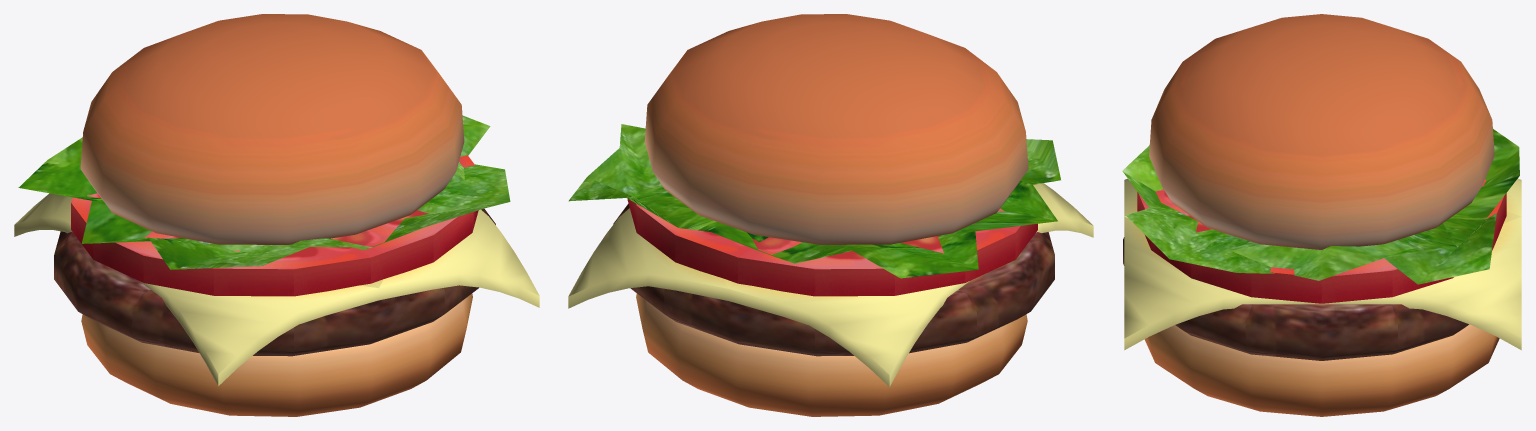
The model's file is hamburger.obj.
3 views of the same model, side by side, from view 1: azimuth 30°, elevation 25°; view 2: azimuth 150°, elevation 25°; view 3: azimuth 270°, elevation 25° (orthographic). The views are drawn at different scales.
Parts seen in each view (by area): view 1: mesh0033, mesh0028, mesh0030, mesh0031, mesh0029, mesh0032; view 2: mesh0033, mesh0028, mesh0030, mesh0032, mesh0029, mesh0031; view 3: mesh0033, mesh0028, mesh0032, mesh0030, mesh0029, mesh0031.
Part boxes in pixels (x1,y1,x2,y2): mesh0033: (80, 14, 464, 244); mesh0028: (81, 293, 472, 416); mesh0030: (14, 193, 539, 385); mesh0031: (71, 155, 478, 296); mesh0029: (54, 208, 495, 356); mesh0032: (18, 115, 510, 269); mesh0033: (644, 14, 1028, 244); mesh0028: (636, 293, 1027, 416); mesh0030: (568, 183, 1093, 386); mesh0032: (568, 124, 1060, 278); mesh0029: (613, 203, 1054, 356); mesh0031: (627, 199, 1037, 296); mesh0033: (1149, 14, 1494, 249); mesh0028: (1144, 324, 1499, 416); mesh0032: (1122, 129, 1519, 284); mesh0030: (1124, 178, 1521, 350); mesh0029: (1123, 237, 1468, 360); mesh0031: (1137, 179, 1506, 303).
Size of the model in its own units: 6.65 by 4.56 by 5.59.
Materials: 1 (1 with a texture image).
